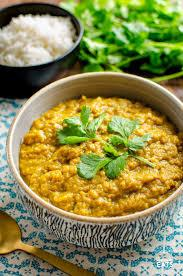Dhal Curry: (20, 87, 176, 224)
